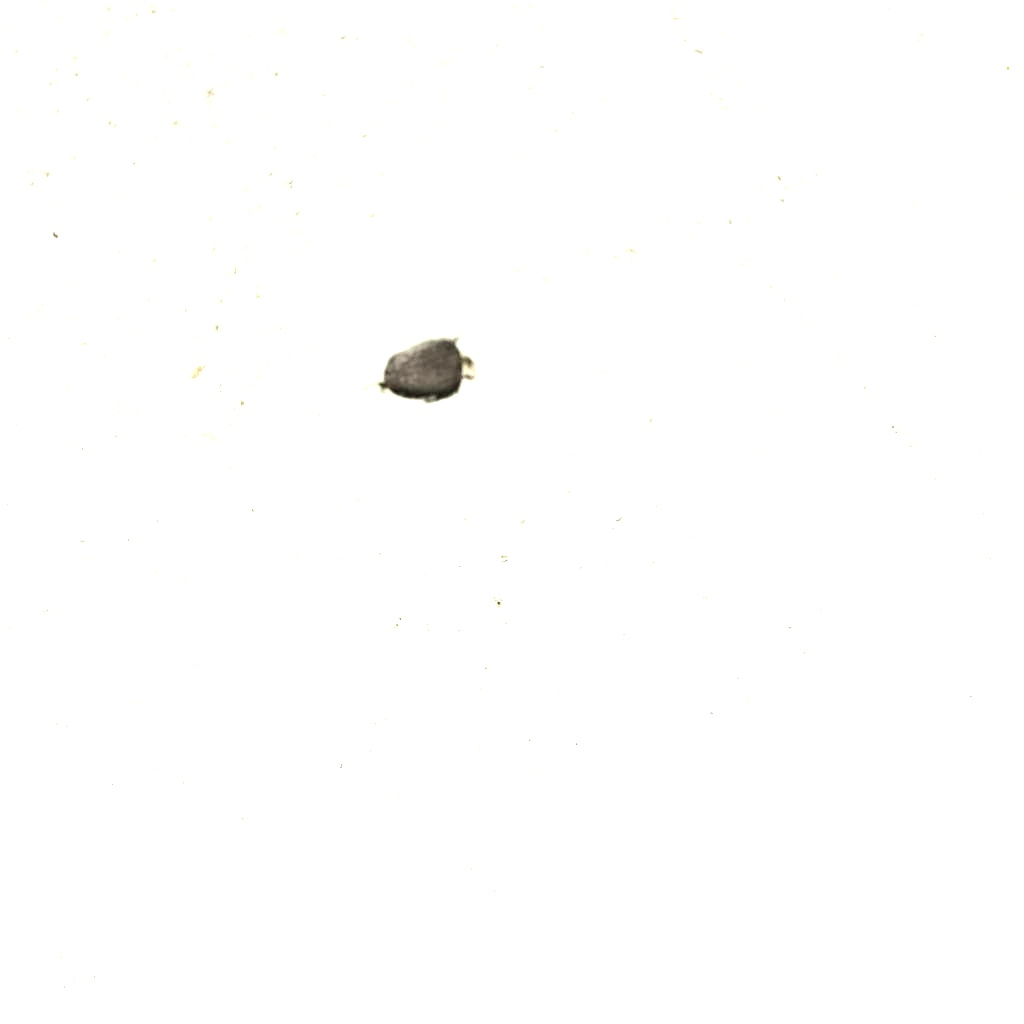surface_injure: (372, 330, 478, 408)
